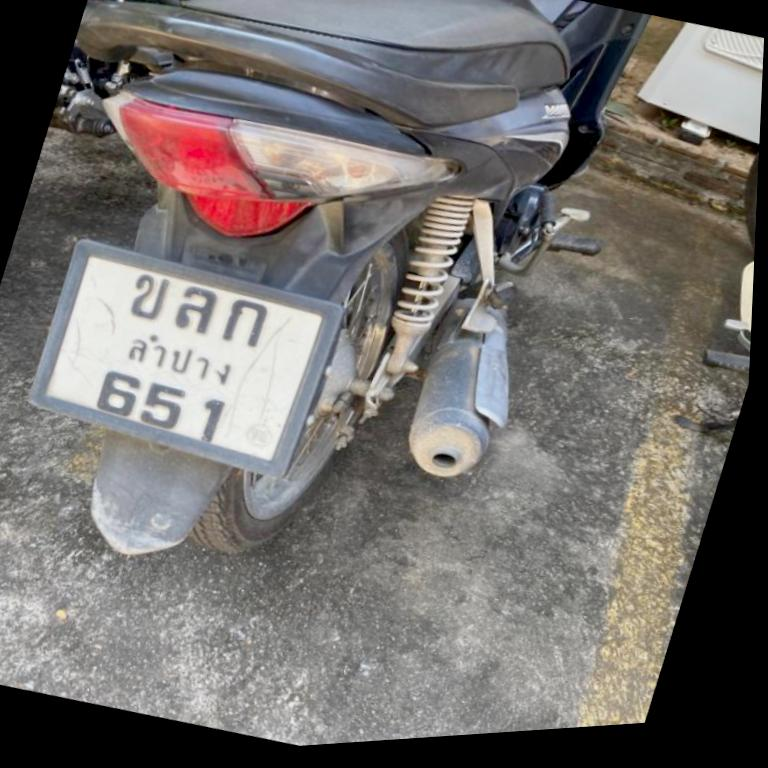license plate: (31, 242, 340, 476)
